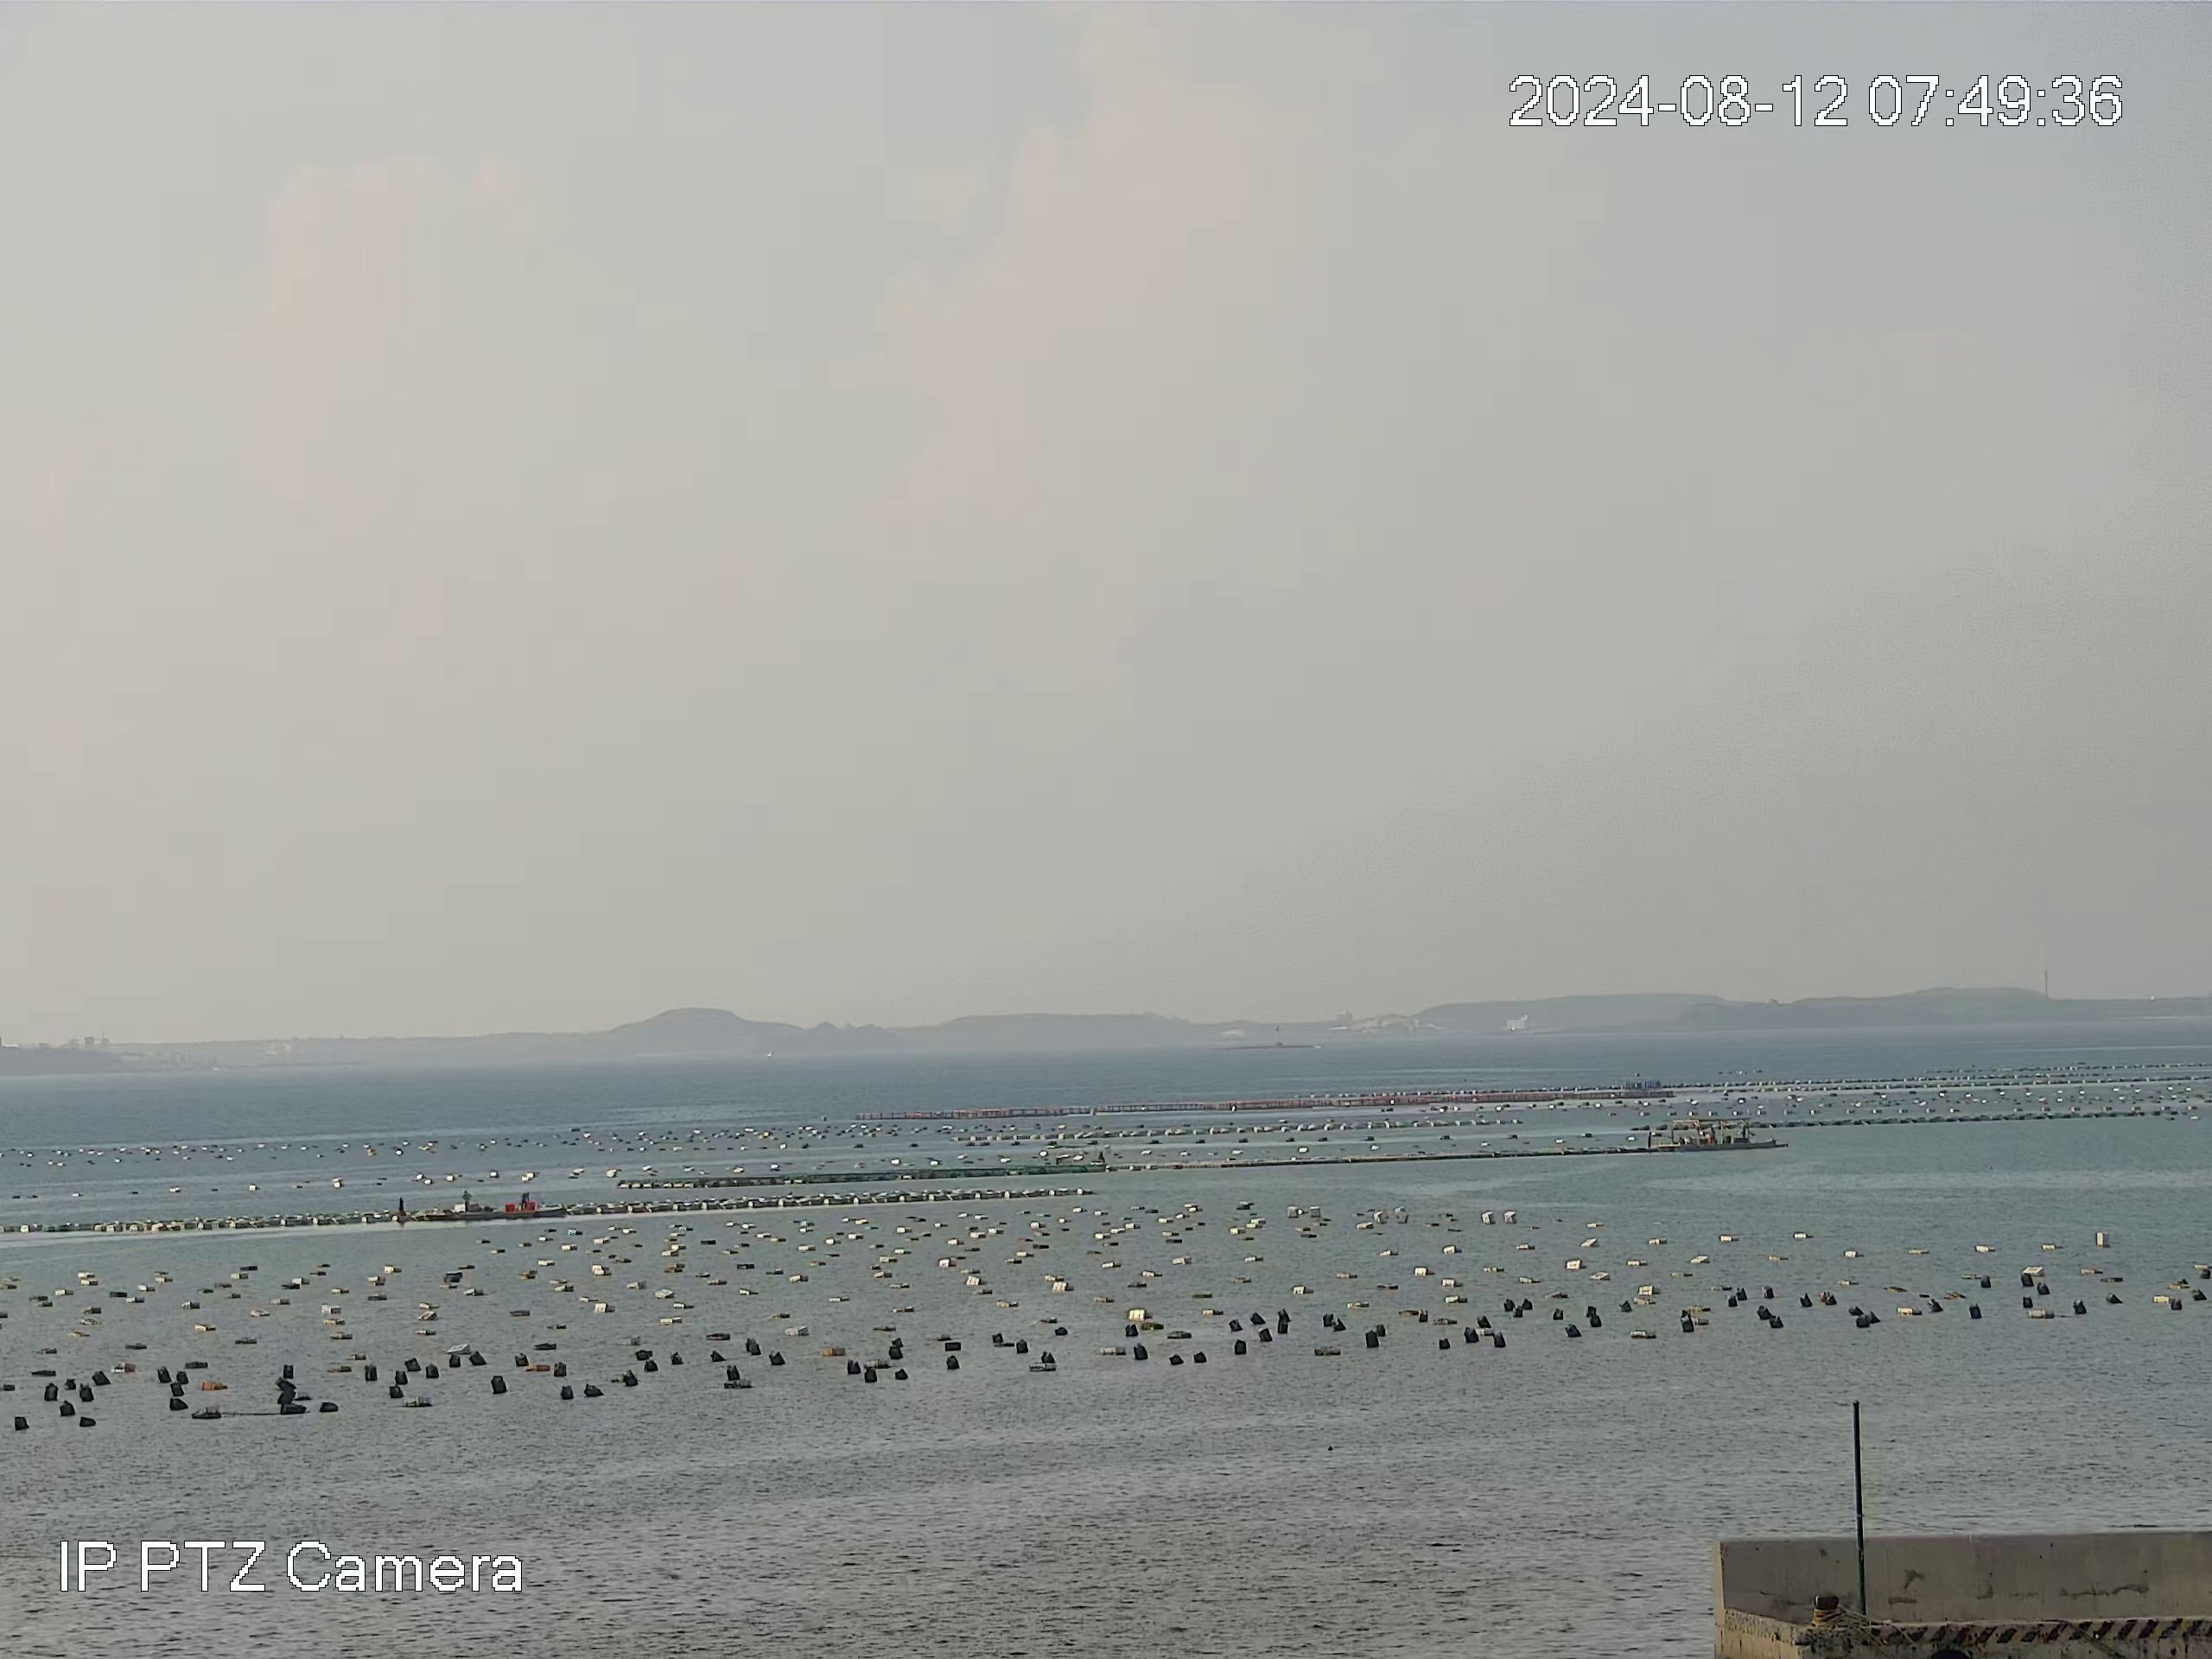boat: (394, 1186, 571, 1220), (1646, 1117, 1781, 1148)
